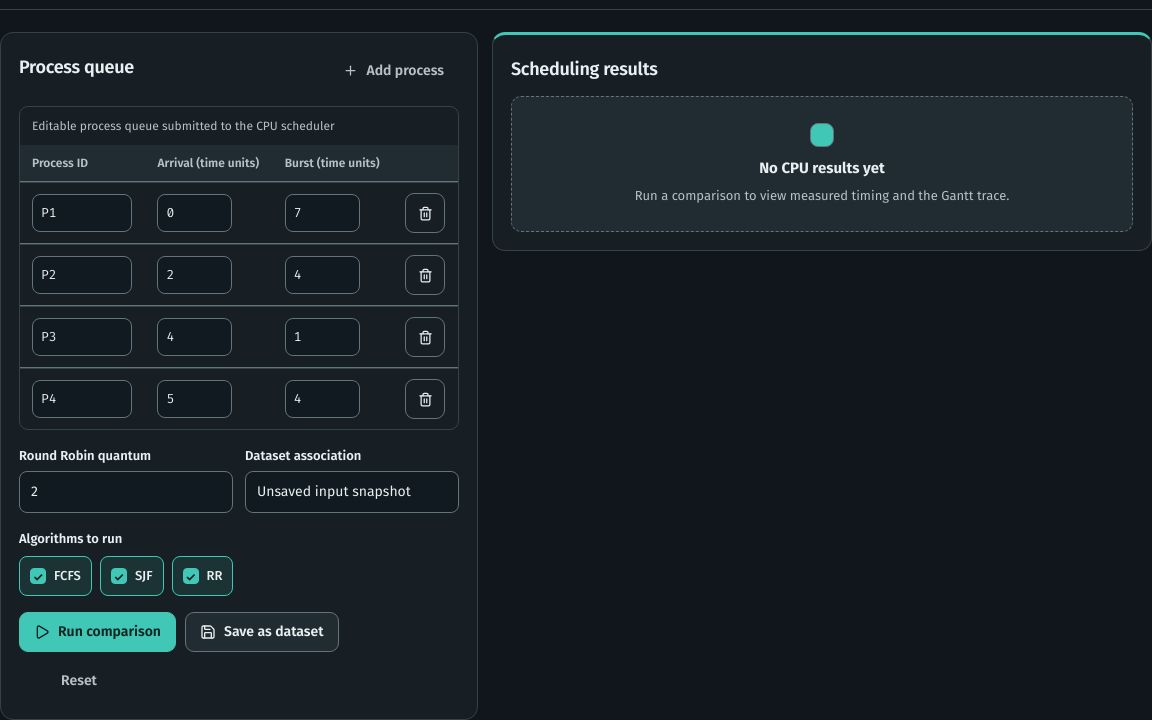
Test case: CPU simulator page › submits a real API request and renders the returned metrics and idle trace
(page scrolled)
Click the button "Run comparison" at point(98, 632), box [19,612,176,652]
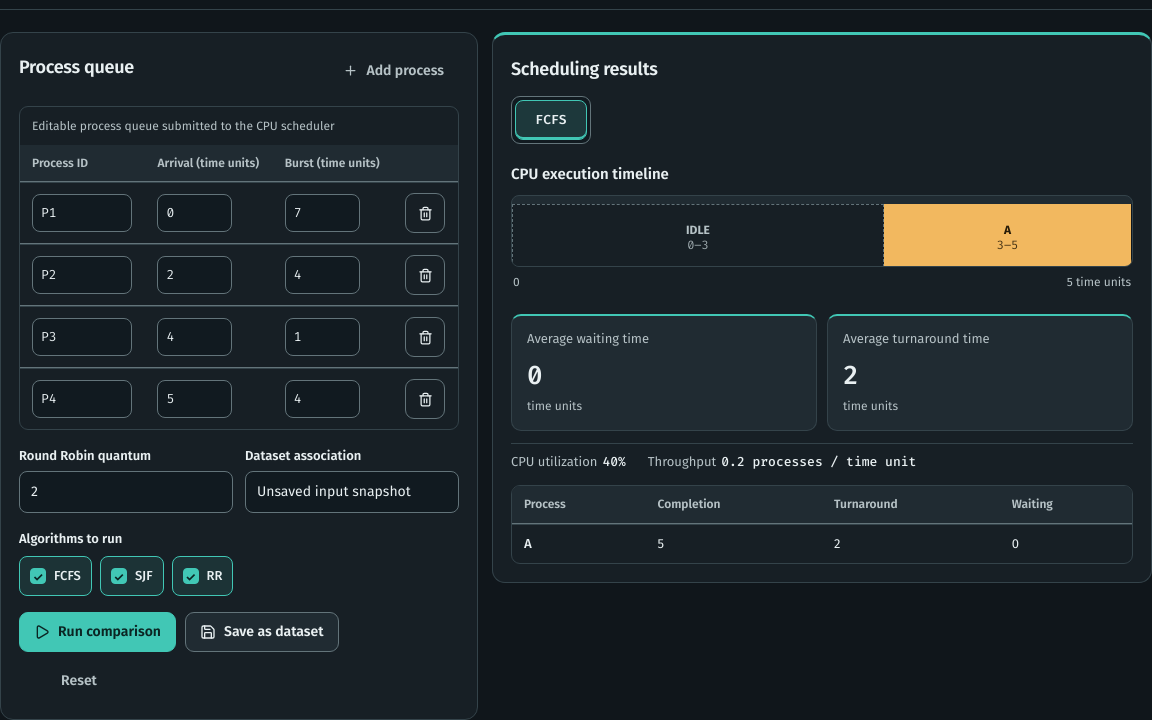
expect the text "IDLE" is shown: met, box [686,223,710,238]
expect the text "5" is shown: met, box [646,524,822,563]
